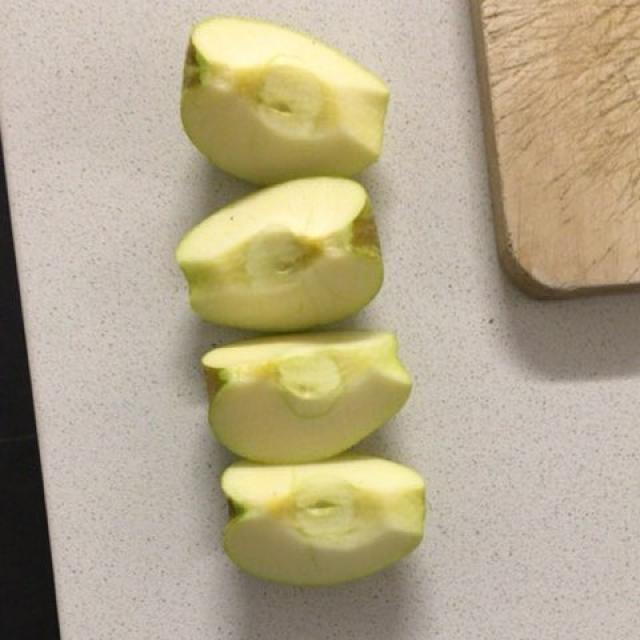apple: (176, 21, 430, 583)
